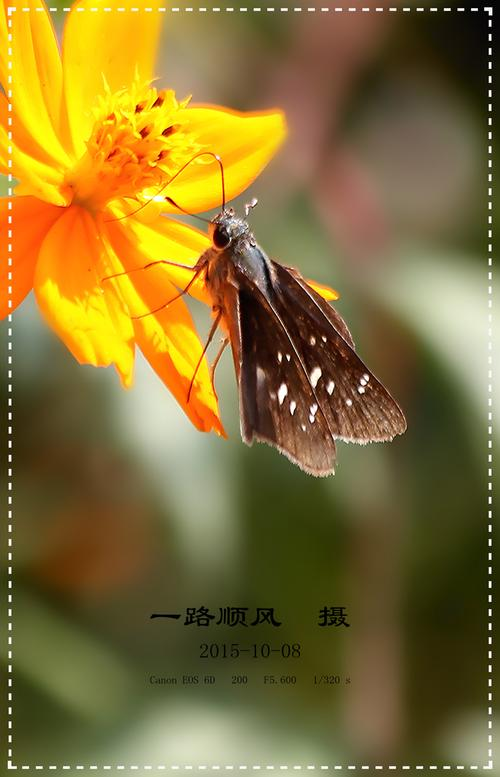Hesperiidae: (107, 158, 413, 477)
